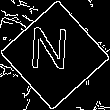N_S: (34, 29, 76, 81)
